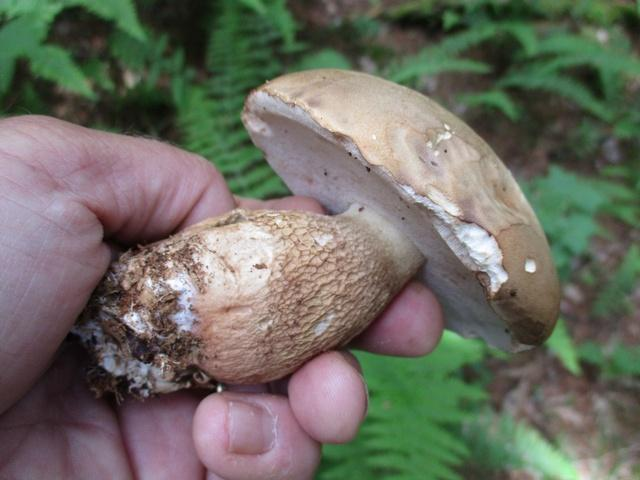poisonous_mushroom: (70, 66, 562, 402)
